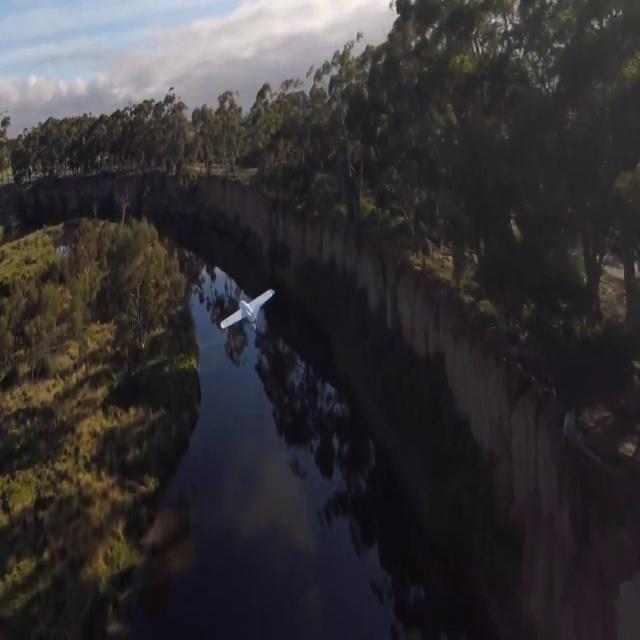iha: (219, 286, 277, 331)
